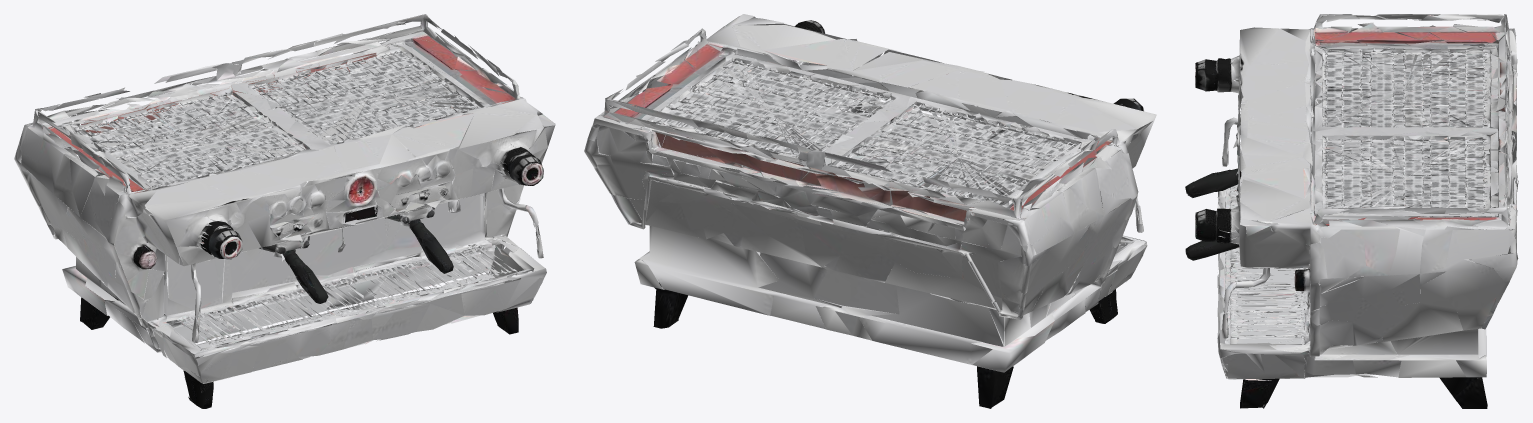
The model's file is espresso.glb.
3 renders of one model, left to right at view 1: azimuth 30°, elevation 25°; view 2: azimuth 150°, elevation 25°; view 3: azimuth 270°, elevation 25°, orthographic. The views are drawn at different scales.
Visible parts, largest first — view 1: Mesh_0; view 2: Mesh_0; view 3: Mesh_0.
Part boxes in pixels (bbox=[...]): Mesh_0: bbox=[14, 14, 555, 408]; Mesh_0: bbox=[584, 14, 1156, 408]; Mesh_0: bbox=[1185, 14, 1518, 408].
Bounding box in the file's own units: 1 × 0.4869 × 0.6632.
Materials: 1 (1 with a texture image).
